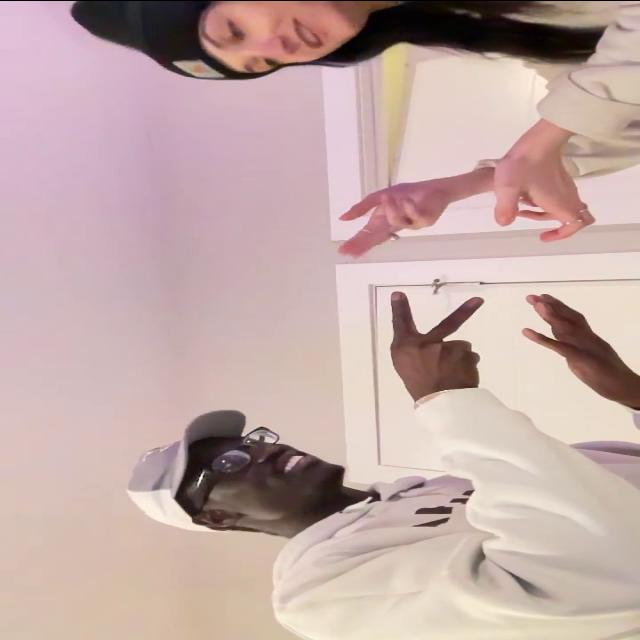Scissors: (388, 290, 488, 392), (336, 182, 446, 256)
